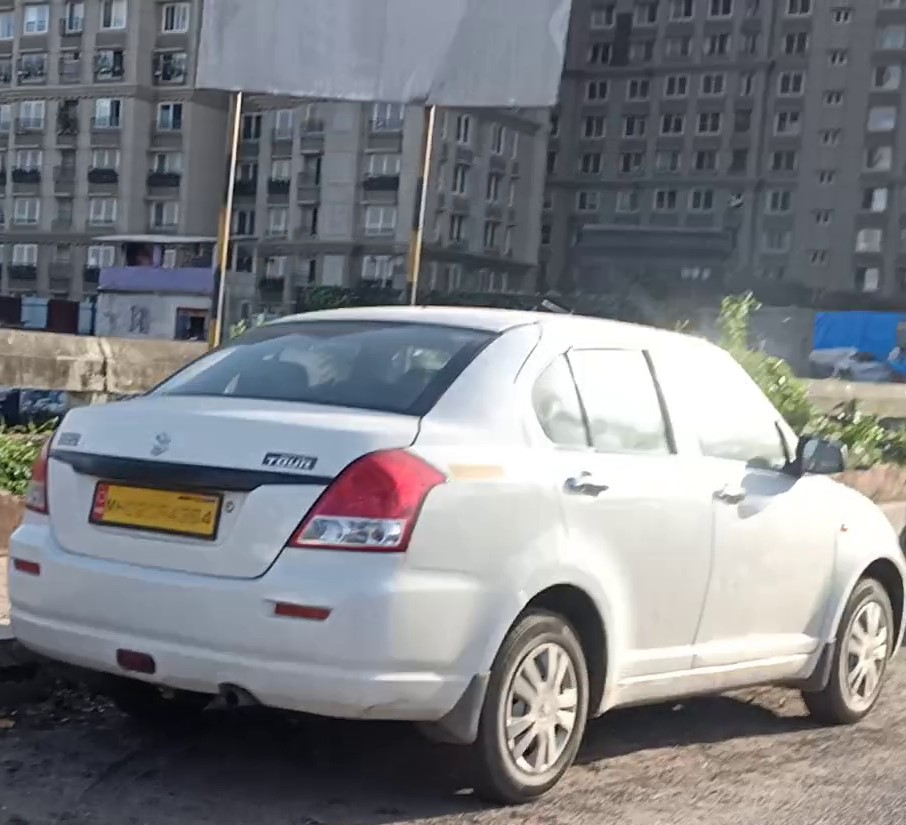MH02CR4364: (91, 481, 221, 541)
